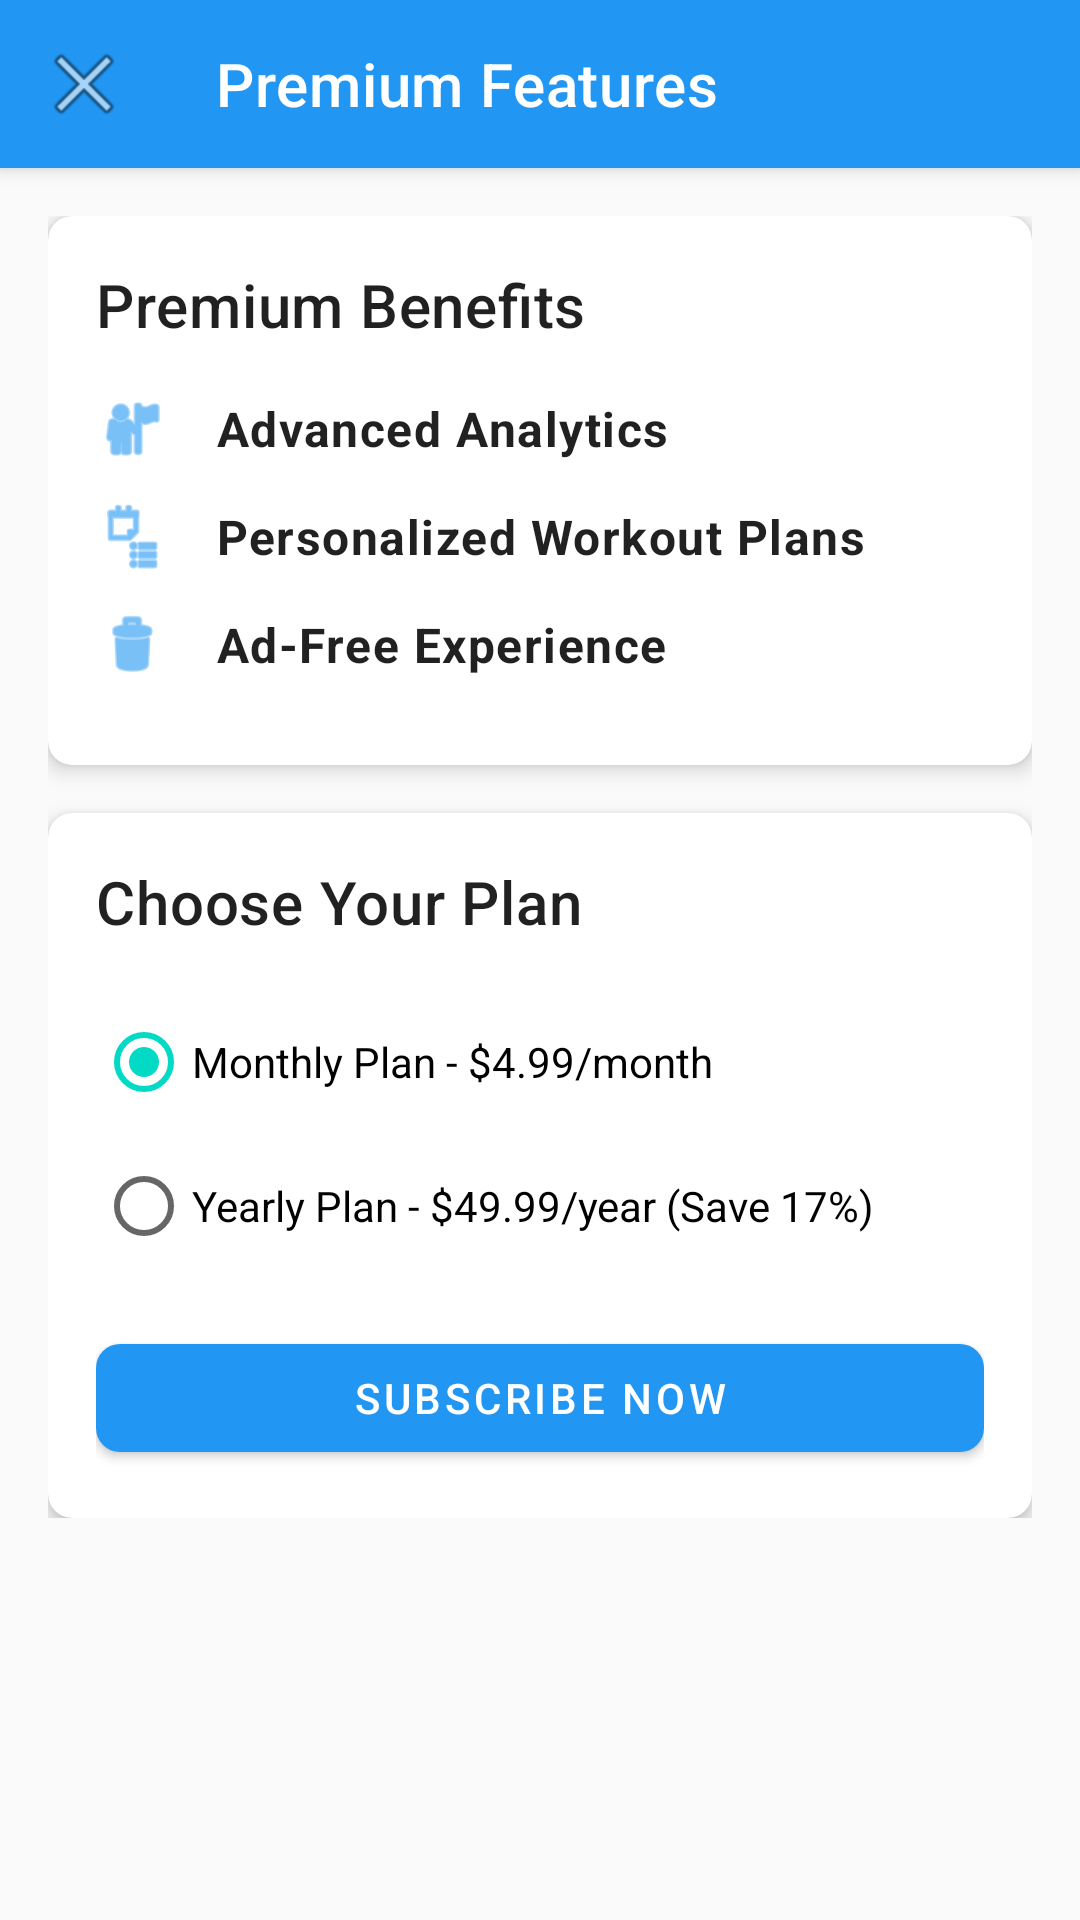

Icon bounding boxes for this 1080*1920 phone screenshot, format bbox=[x1, y1, x2, y2]:
agenda: bbox=[107, 505, 158, 569]
delete: bbox=[112, 616, 153, 672]
